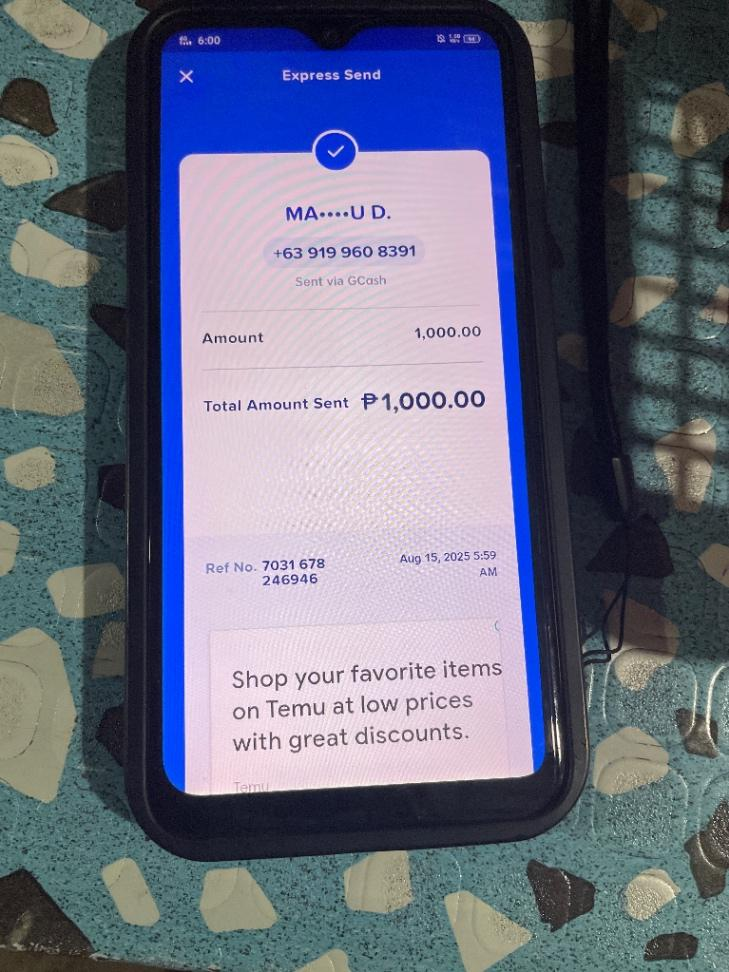Receipt: (157, 49, 545, 789)
